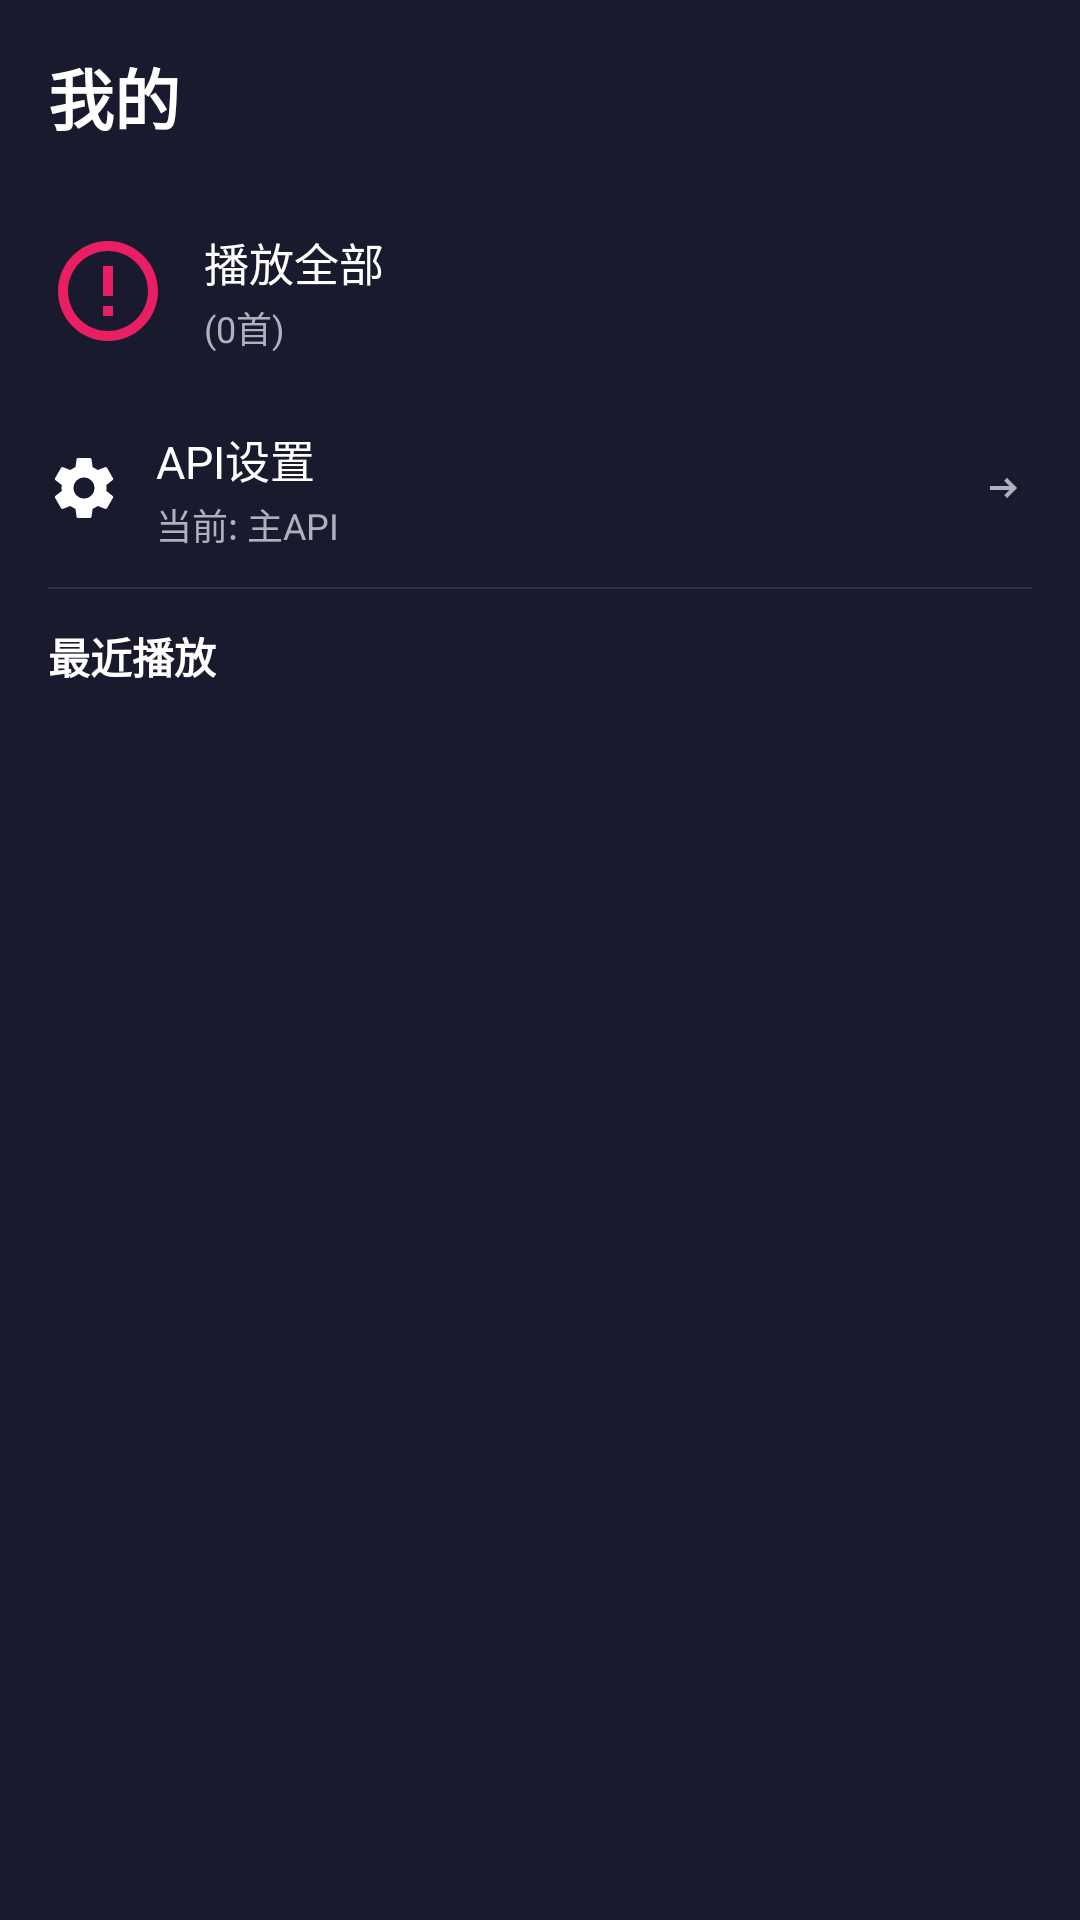

Icons on this 1080×1920 Android screen, each with the point to tap as (x,y):
arrow right: (1003,488)
settings: (84,488)
